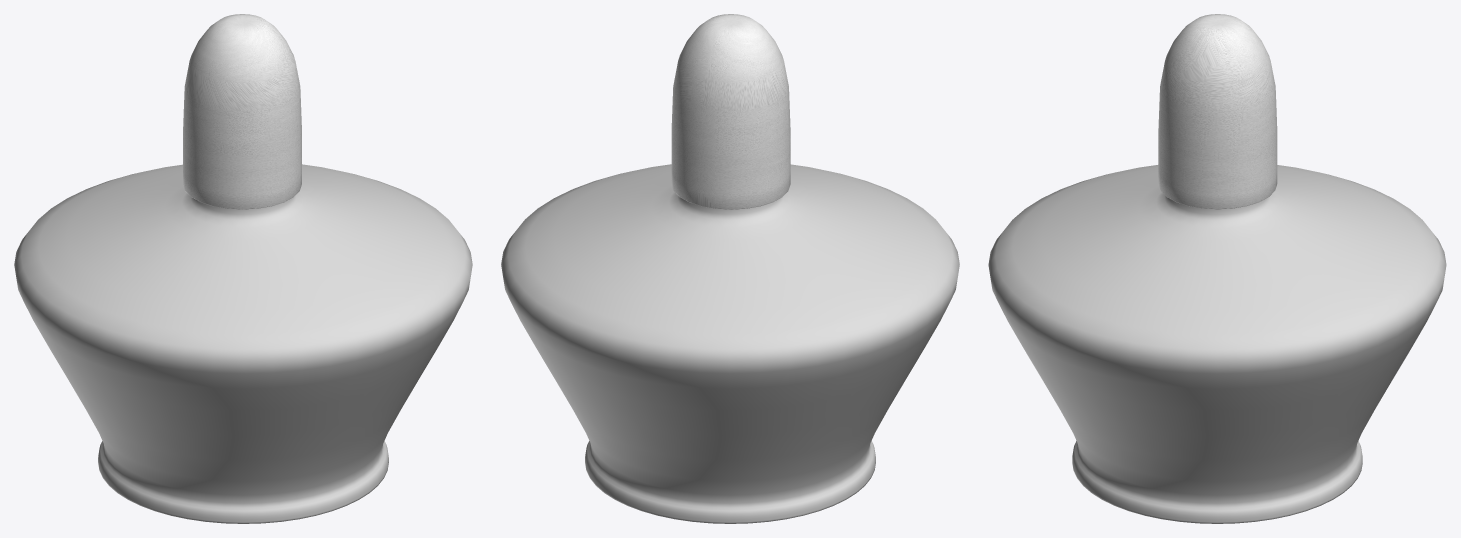
Rendered from chemical_Alcohol lamp.FBX.
3 views of the same model, side by side, from view 1: azimuth 30°, elevation 25°; view 2: azimuth 150°, elevation 25°; view 3: azimuth 270°, elevation 25° (orthographic).
Visible parts, largest first — view 1: chemical_Alcohol lamp; view 2: chemical_Alcohol lamp; view 3: chemical_Alcohol lamp.
Part boxes in pixels (x1,y1,x2,y2): chemical_Alcohol lamp: (14, 14, 472, 523); chemical_Alcohol lamp: (501, 14, 959, 523); chemical_Alcohol lamp: (988, 14, 1446, 523).
Size of the model in its own units: 22.41 by 23.89 by 22.41.
3 materials, 2 textured.
